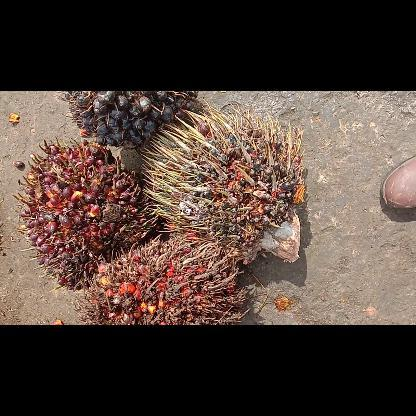TBS abnormal: (136, 102, 304, 264)
TBS masak: (14, 141, 156, 291)
TBS mentah: (63, 90, 198, 146)
Terlalu masak: (88, 236, 244, 324)
